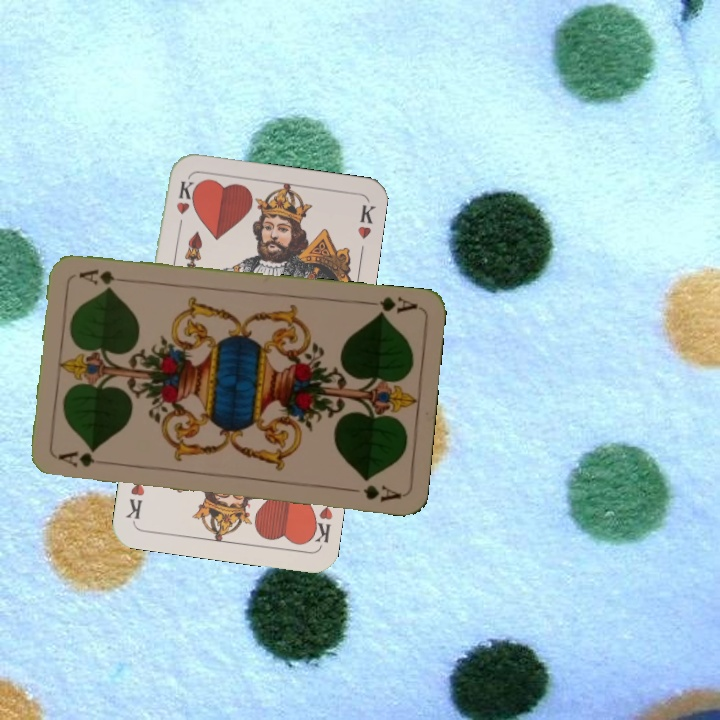GA: (361, 293, 420, 319), (54, 447, 113, 470)
HK: (304, 502, 335, 548), (172, 176, 194, 236)
